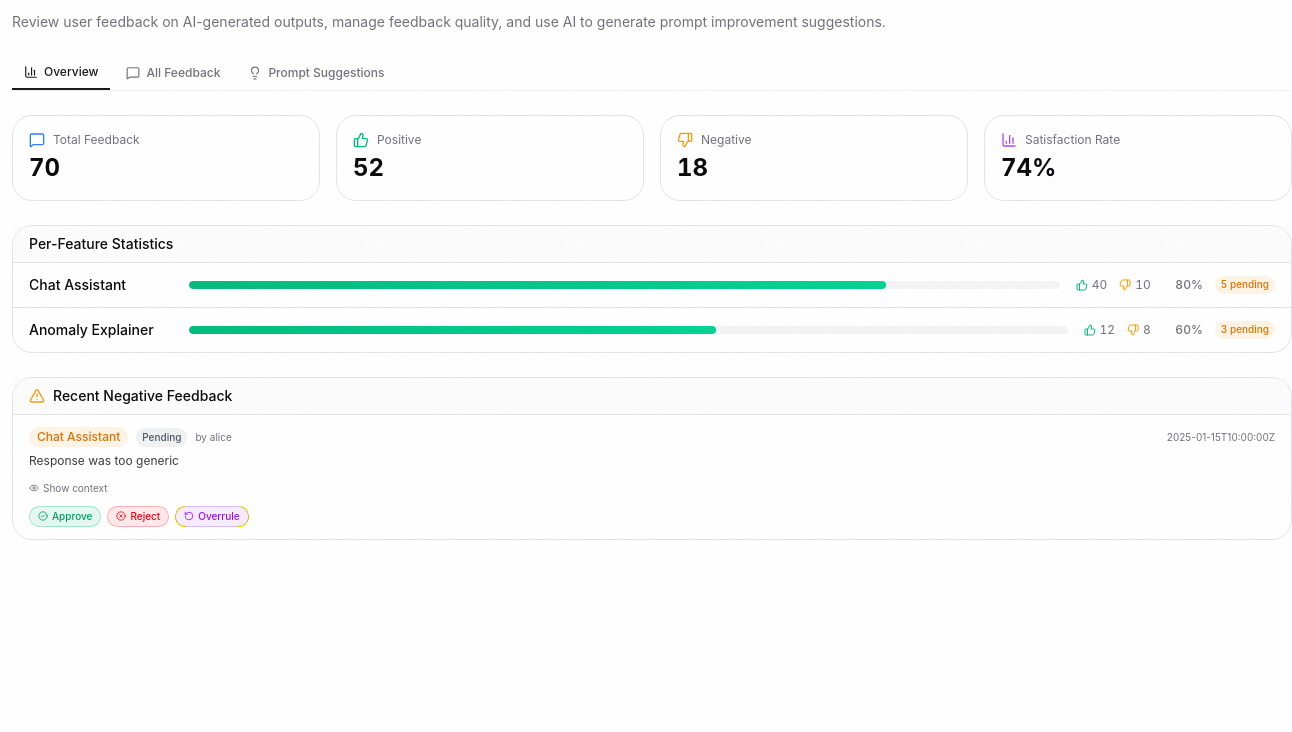
Test: AiFeedbackPanel › shows context when toggled
Step 1. Click the button with test id "toggle-context" → x=68, y=488, box x1=29 y1=480 x2=108 y2=496
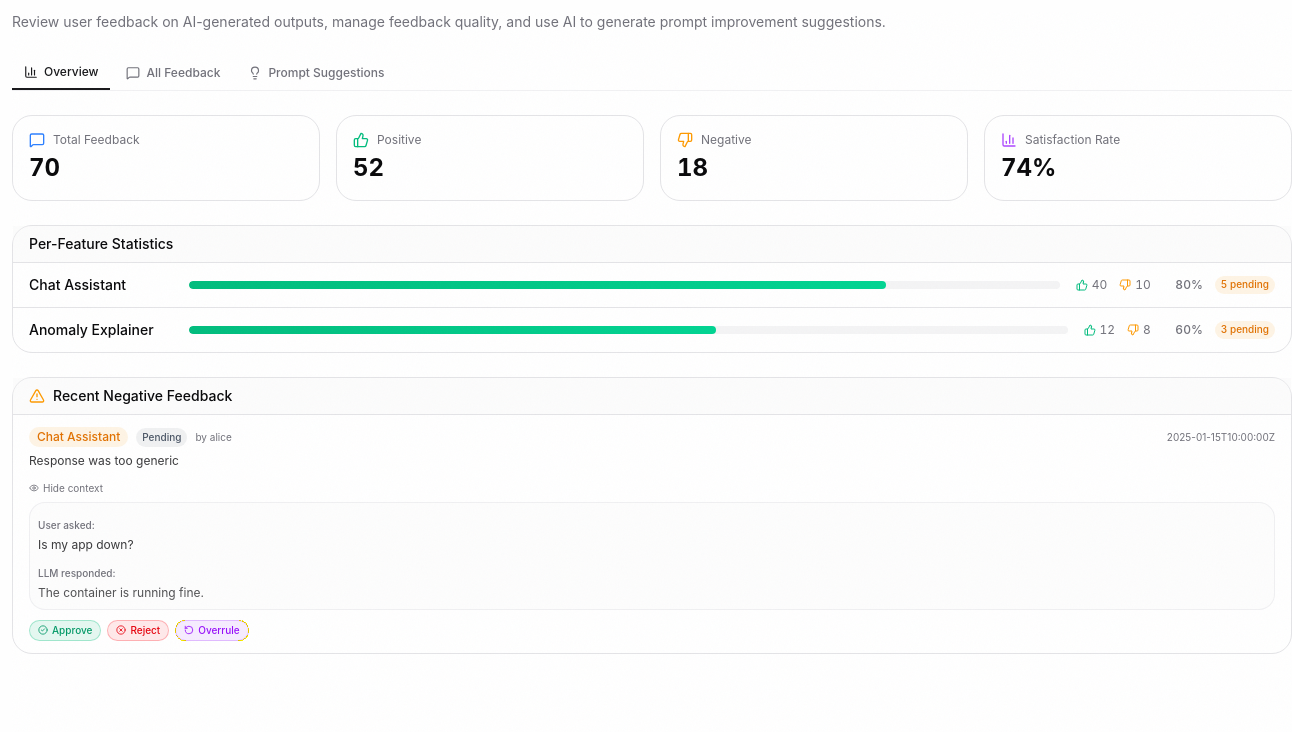
Expected: the element with test id "feedback-context" is shown, x1=29 y1=502 x2=1275 y2=610
Expected: the text "Is my app down?" is shown, x1=38 y1=536 x2=134 y2=552
Expected: the text "The container is running fine." is shown, x1=38 y1=584 x2=204 y2=600
